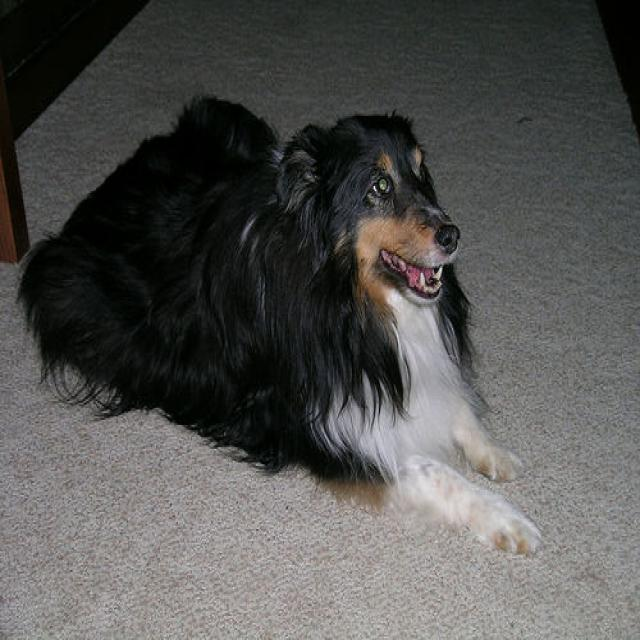dog: (22, 92, 547, 575)
